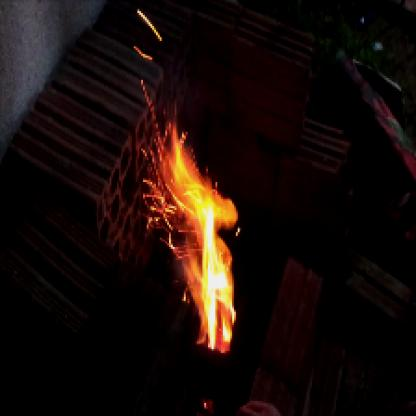Fire: (134, 80, 241, 356)
